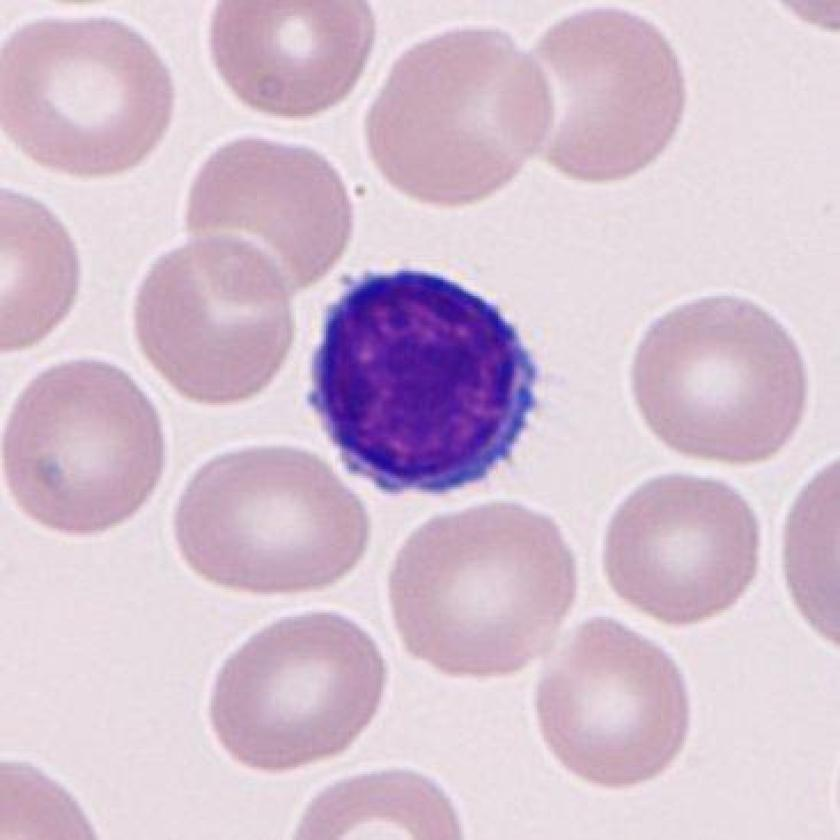lymphocyte: (295, 254, 554, 518)
